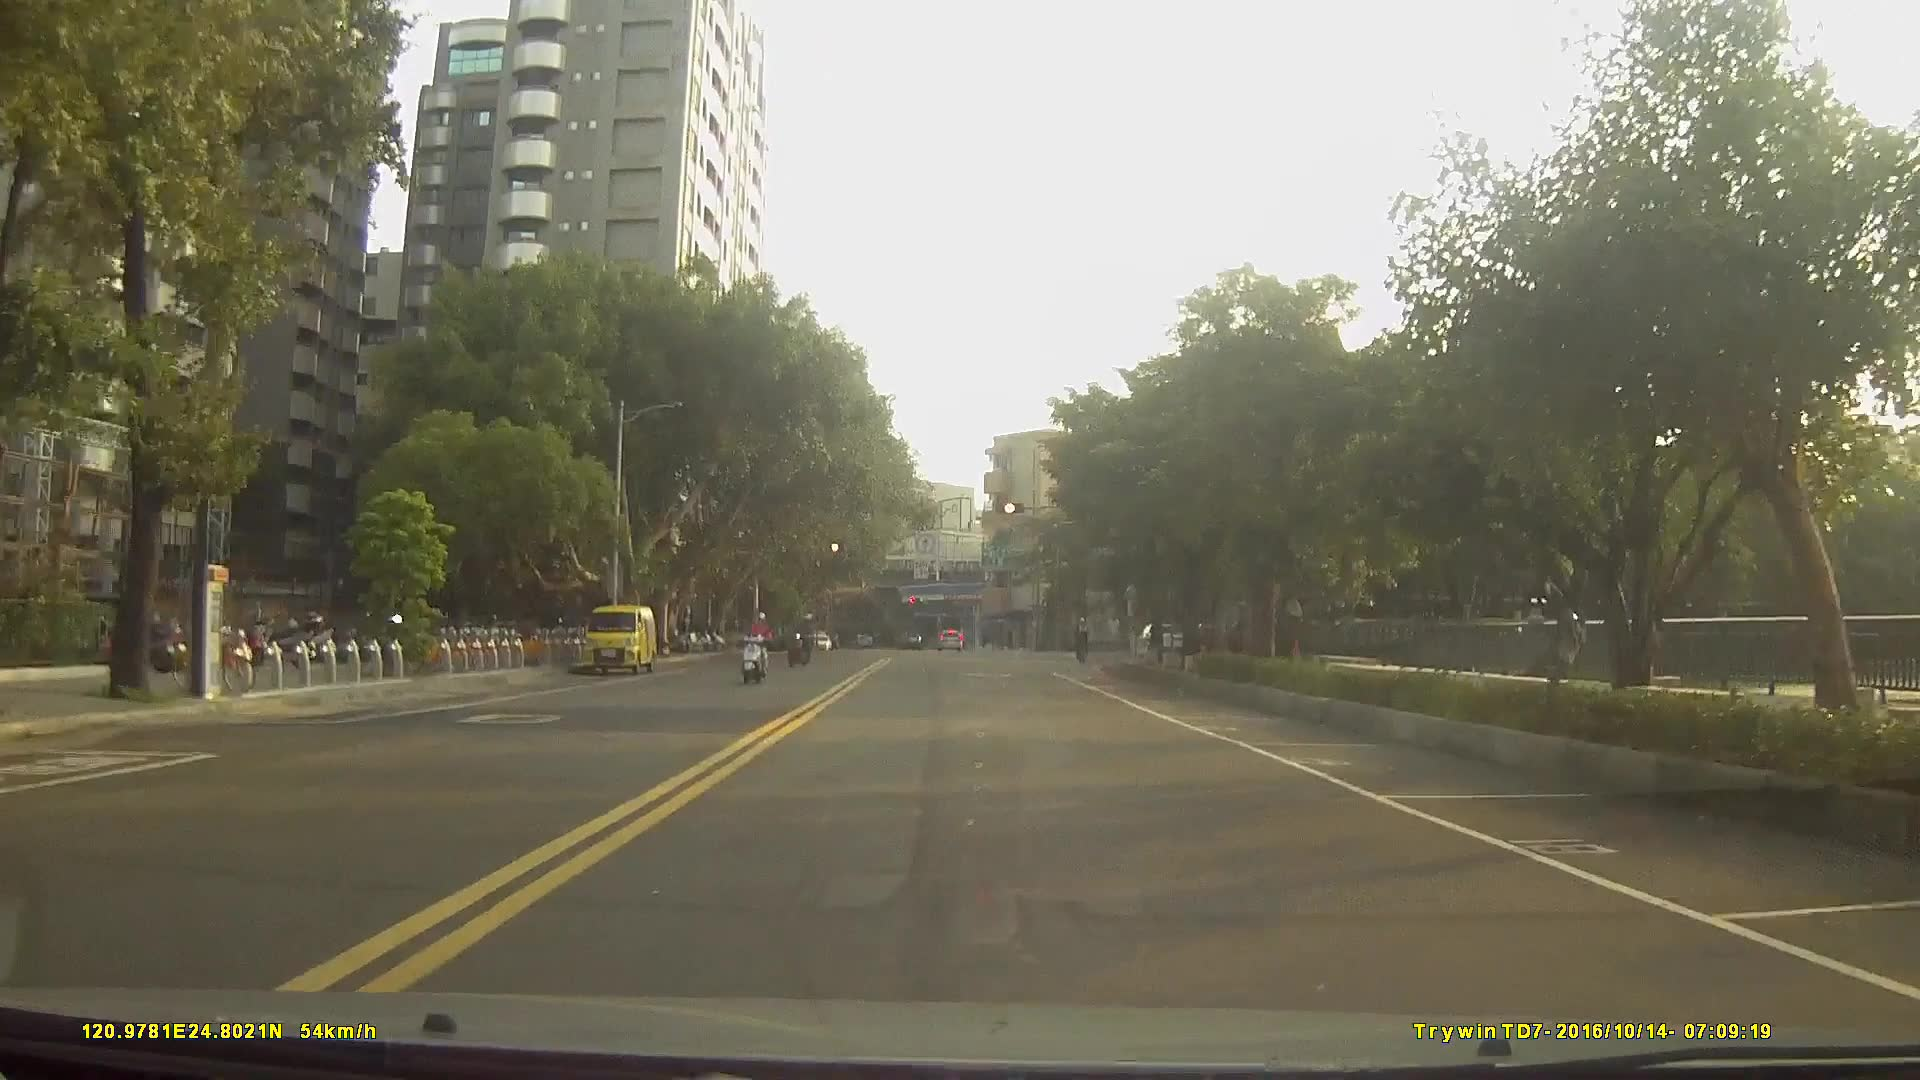pedestrian: (1105, 613, 1125, 657)
rider: (739, 612, 780, 689), (787, 613, 817, 672), (1073, 619, 1094, 668)
vehicle: (935, 625, 964, 651)
